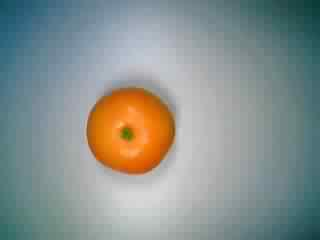orange: (82, 81, 177, 175)
